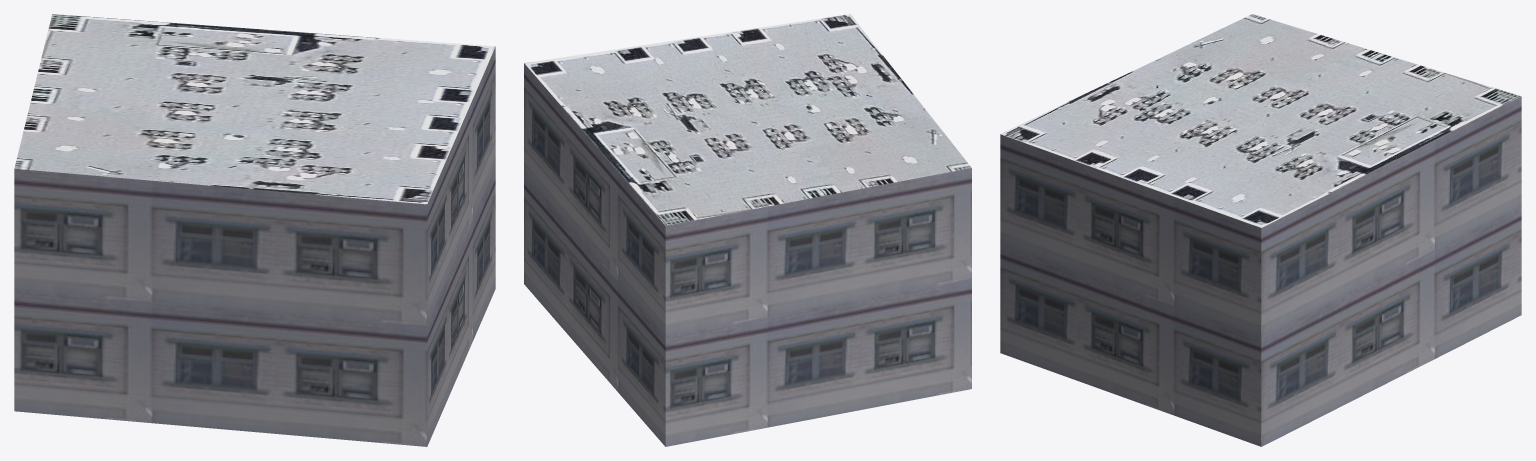
Rendered from ResTex__2784.fbx.
3 renders of one model, left to right at view 1: azimuth 30°, elevation 25°; view 2: azimuth 150°, elevation 25°; view 3: azimuth 270°, elevation 25°, orthographic. The views are drawn at different scales.
Visible parts, largest first — view 1: CityEngineMaterial_1_m, CityEngineMaterial_m; view 2: CityEngineMaterial_1_m, CityEngineMaterial_m; view 3: CityEngineMaterial_1_m, CityEngineMaterial_m.
Part boxes in pixels (left/top/right/bottom): CityEngineMaterial_1_m: left=14, top=47, right=495, bottom=446; CityEngineMaterial_m: left=14, top=14, right=495, bottom=204; CityEngineMaterial_1_m: left=524, top=63, right=971, bottom=446; CityEngineMaterial_m: left=524, top=14, right=971, bottom=225; CityEngineMaterial_1_m: left=1000, top=96, right=1521, bottom=446; CityEngineMaterial_m: left=1001, top=14, right=1520, bottom=227.
Size of the model in its own units: 12.59 by 6 by 12.95.
Materials: 2 (2 with a texture image).
